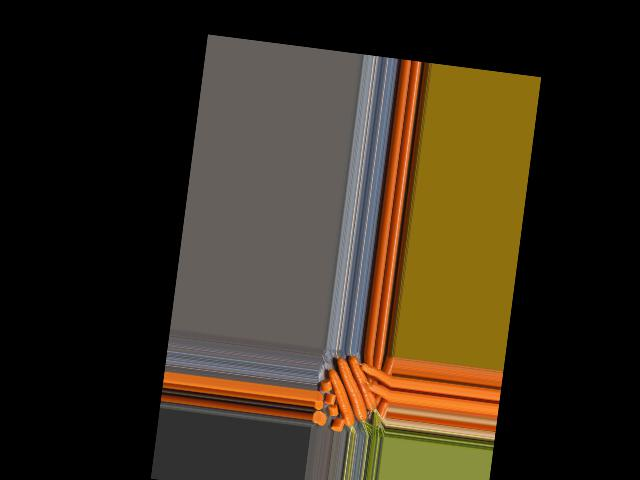carrot: (343, 354, 384, 411)
